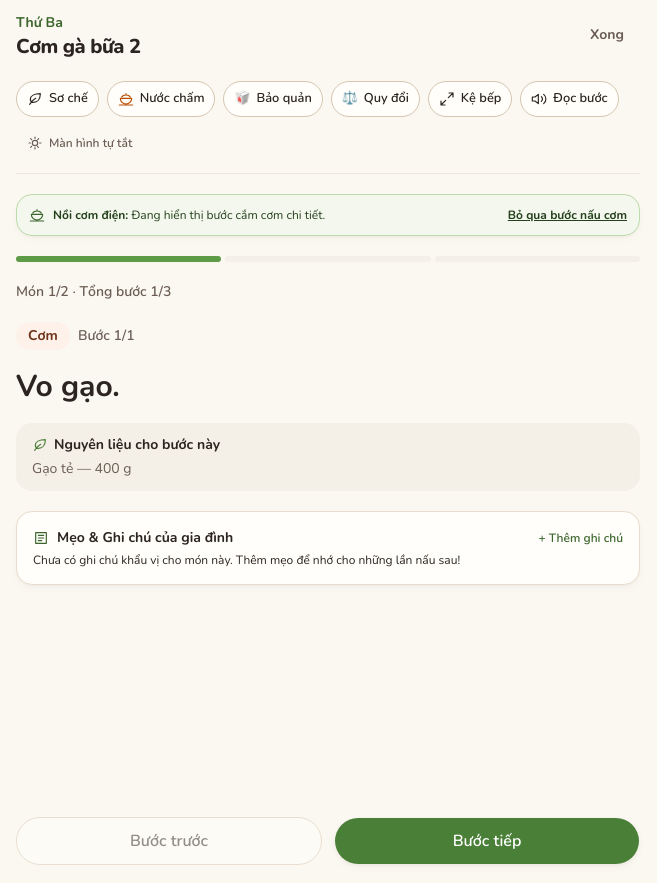
Test case: CookingPage › offers a countdown only on a step that has one, and starts it at the full time
The image size is (657, 883).
Expected: the text "Vo gạo." is shown, [16,366,120,407]
Expected: the button "Bắt đầu" is not shown
Click the button "Bước tiếp".
click(487, 841)  # box [334,817,640,865]
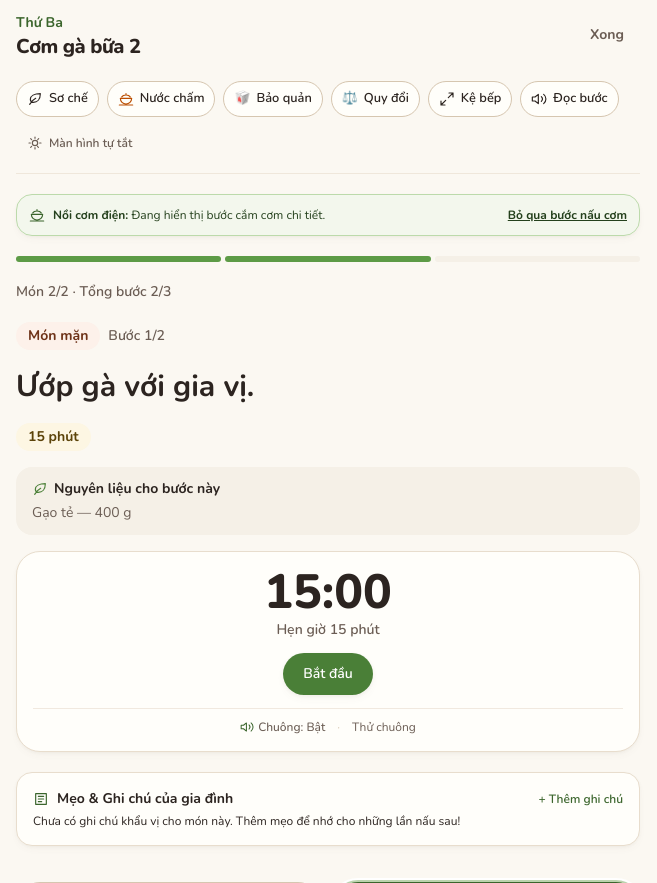
Expected: the button "Đặt lại" is not shown
Expected: the text "15:00" is shown, [264,559,392,625]
Expected: the button "Bắt đầu" is shown
Click the button "Bắt đầu".
click(328, 674)  # box [282,652,374,696]
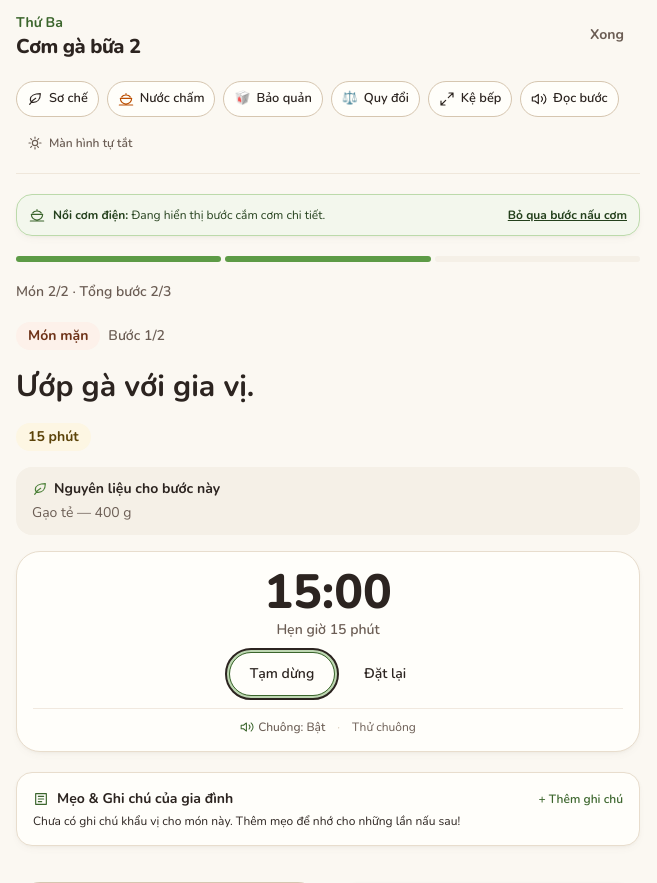
Expected: the button "Tạm dừng" is shown, [229,652,335,696]
Expected: the button "Đặt lại" is shown, [343,652,427,696]
